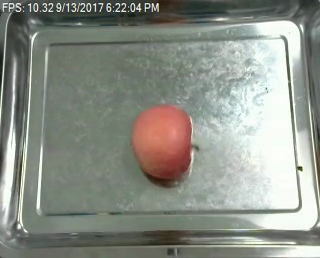Apple: (128, 101, 194, 185)
